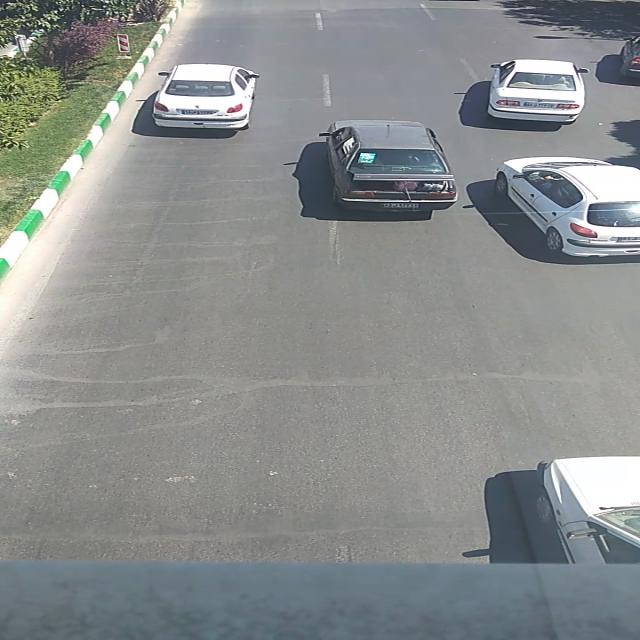car: (494, 156, 640, 260), (320, 120, 458, 212), (531, 452, 640, 562), (148, 64, 258, 132), (486, 55, 590, 125)
